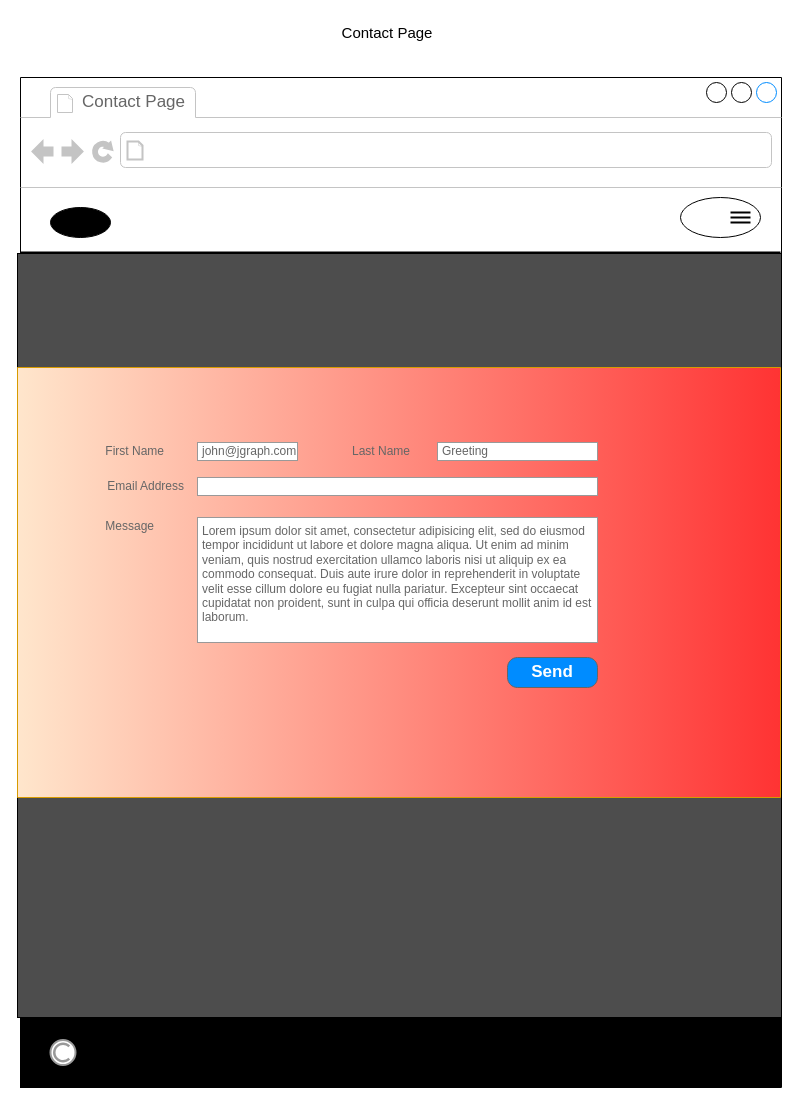
Image size: 799x1105. Some labels were removed from this diagram. The shapes that lost their labels are listed below. From the top down, each one's box as (x1, y1, x2, y2) in pixels, then its label:
(150, 136, 400, 164): www.lukewardle.co.uk/contact
(50, 206, 110, 238): Logo
(680, 196, 760, 238): Menu
(196, 476, 598, 496): fred@jgraph.com
